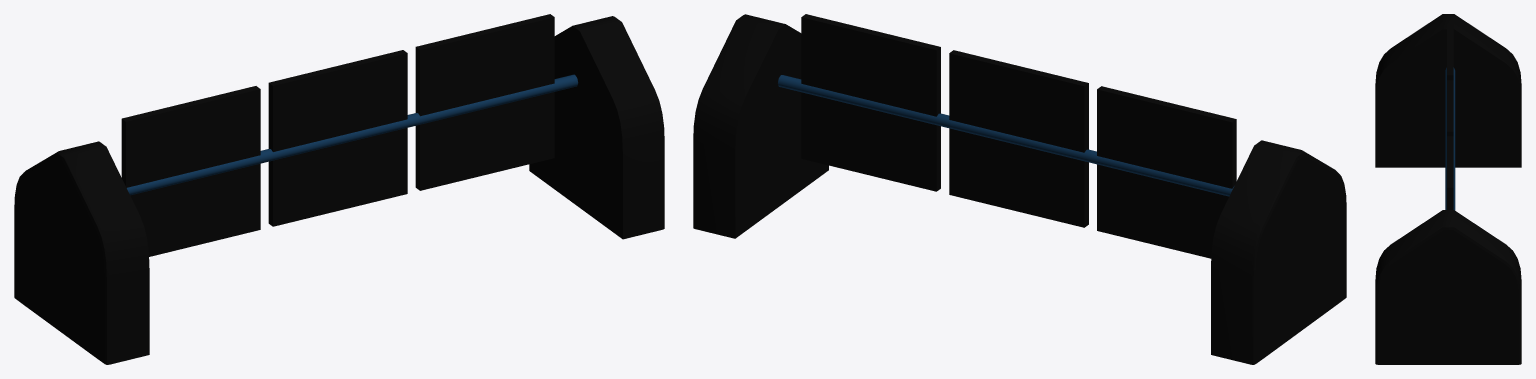
File: Tournette 2.fbx
3 views of the same model, side by side, from view 1: azimuth 30°, elevation 25°; view 2: azimuth 150°, elevation 25°; view 3: azimuth 270°, elevation 25° (orthographic). The views are drawn at different scales.
Visible parts, largest first — view 1: Box021, Box088, Box024, Box025, Box023, Cylinder001; view 2: Box021, Box088, Box025, Box024, Box023, Cylinder001; view 3: Box088, Box021, Cylinder001, Box025, Box023, Box024.
Part boxes in pixels (bbox=[...]): Box021: bbox=[14, 141, 149, 364]; Box088: bbox=[529, 16, 664, 239]; Box024: bbox=[268, 50, 407, 226]; Box025: bbox=[415, 14, 554, 190]; Box023: bbox=[121, 86, 260, 256]; Cylinder001: bbox=[127, 74, 578, 195]; Box021: bbox=[1211, 140, 1346, 364]; Box088: bbox=[693, 14, 828, 238]; Box025: bbox=[801, 14, 940, 191]; Box024: bbox=[949, 50, 1088, 227]; Box023: bbox=[1097, 86, 1236, 258]; Cylinder001: bbox=[778, 75, 1234, 196]; Box088: bbox=[1375, 210, 1521, 364]; Box021: bbox=[1375, 14, 1521, 167]; Cylinder001: bbox=[1445, 67, 1455, 210]; Box025: bbox=[1447, 136, 1453, 209]; Box023: bbox=[1447, 24, 1453, 80]; Box024: bbox=[1447, 80, 1453, 136].
Bounding box in the file's own units: 415 × 120 × 138.
